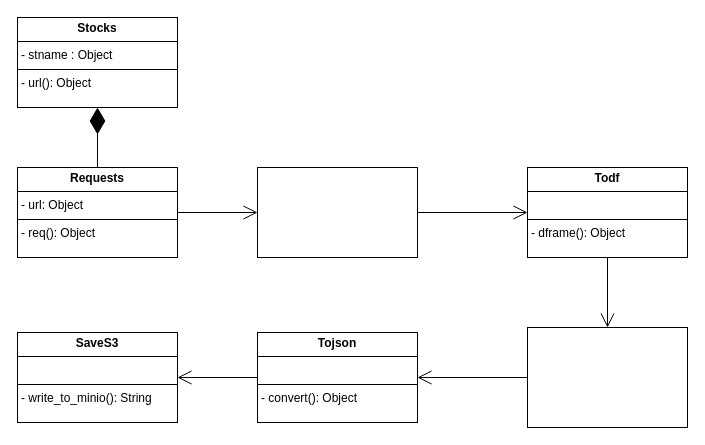
Image size: 705x445. Some labels were removed from this diagram. The centre of each missing label's shape, as x and y in pixels:
"Scrap - catch(): Object" goes at point 337,212.
"Transform - str_to_datetime(): Object - multi_transf(): Object" goes at point 607,377.
